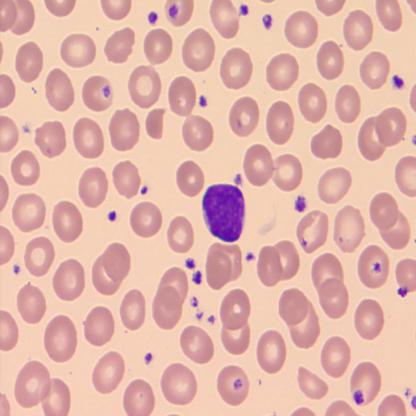Lymphocyte: (200, 180, 247, 245)
